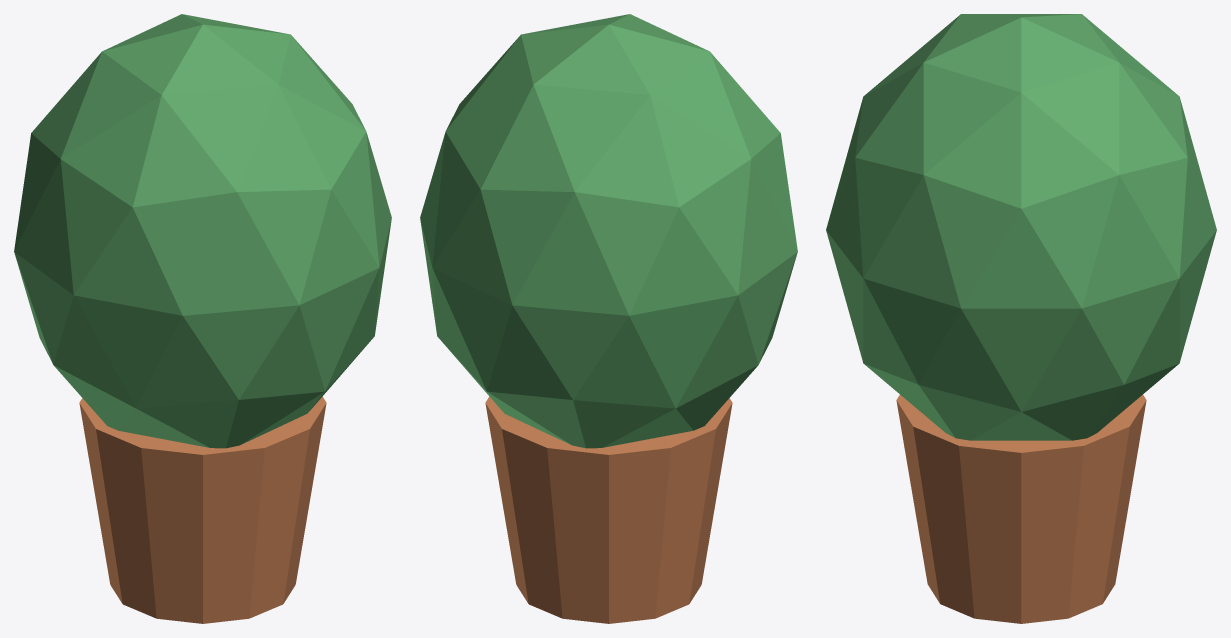
File: sm_product_potted_plant.glb
3 renders of one model, left to right at view 1: azimuth 30°, elevation 25°; view 2: azimuth 150°, elevation 25°; view 3: azimuth 270°, elevation 25°, orthographic.
Visible parts, largest first — view 1: potted_plant_1, potted_plant_0; view 2: potted_plant_1, potted_plant_0; view 3: potted_plant_1, potted_plant_0.
Boxes of the visible parts, x1=… form: potted_plant_1: x1=14, y1=14, x2=391, y2=448; potted_plant_0: x1=79, y1=396, x2=326, y2=623; potted_plant_1: x1=420, y1=14, x2=797, y2=448; potted_plant_0: x1=485, y1=396, x2=732, y2=623; potted_plant_1: x1=826, y1=14, x2=1216, y2=440; potted_plant_0: x1=896, y1=395, x2=1146, y2=623.
Size of what is drawn, in the model's own units: 0.4755 by 0.8 by 0.5.
